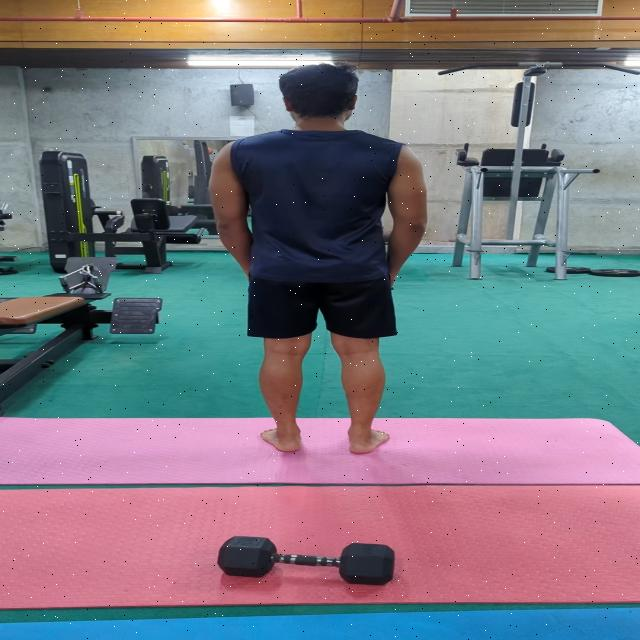Normal_JumpingJacks: (180, 56, 452, 492)
